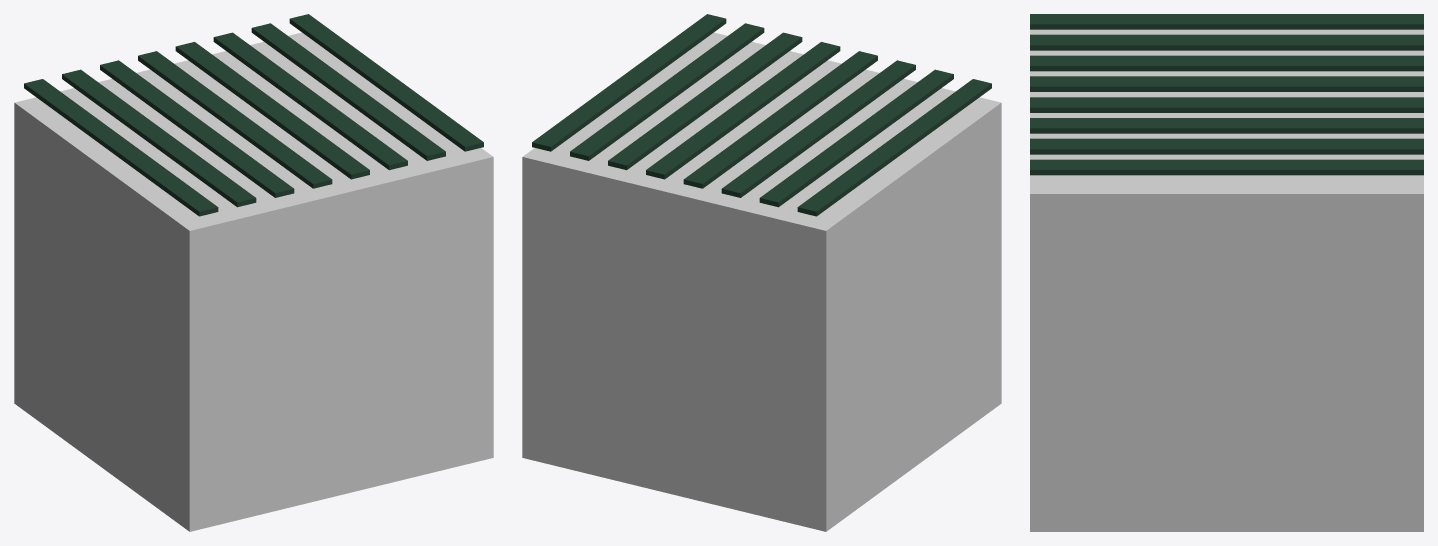
Rendered from grass.glb.
3 renders of one model, left to right at view 1: azimuth 30°, elevation 25°; view 2: azimuth 150°, elevation 25°; view 3: azimuth 270°, elevation 25°, orthographic. The views are drawn at different scales.
Visible parts, largest first — view 1: beret/surface; view 2: beret/surface; view 3: beret/surface.
Part boxes in pixels (left/top/right/bottom): beret/surface: left=14, top=14, right=493, bottom=531; beret/surface: left=522, top=14, right=1001, bottom=531; beret/surface: left=1030, top=14, right=1423, bottom=531.
Size of the model in its own units: 1 by 1 by 1.
